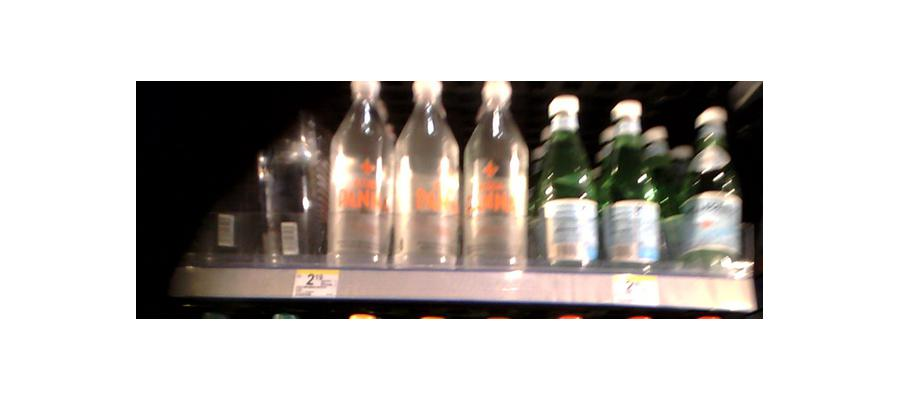bottle: (392, 83, 461, 266), (461, 89, 528, 271), (327, 77, 392, 264), (257, 100, 332, 262), (600, 100, 667, 270), (535, 91, 597, 274), (680, 104, 739, 271)
